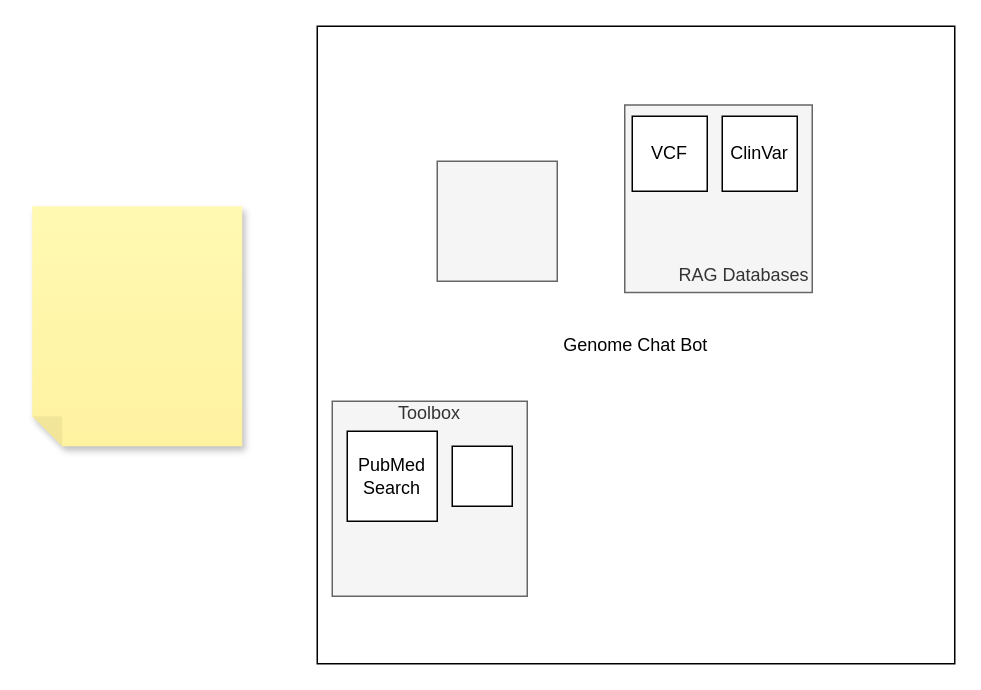
Some shapes in this 981 by 690 pixel diagram are drawn without their labels. Each missing label, with the centre of its shape:
Custom Tool: (481,475)
Custom Tool - Interpretation Report: (138,328)
LLM (GPT-4): (496,220)
